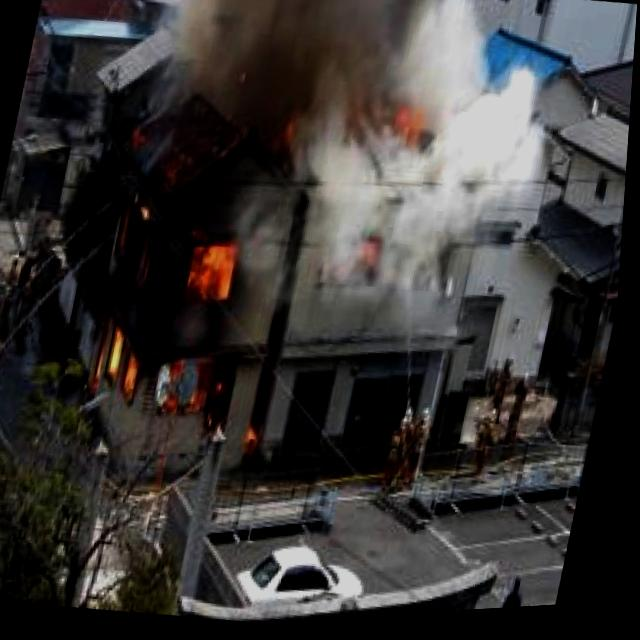Fire: (71, 160, 313, 480)
Smoke: (145, 0, 584, 205), (292, 161, 538, 333)
